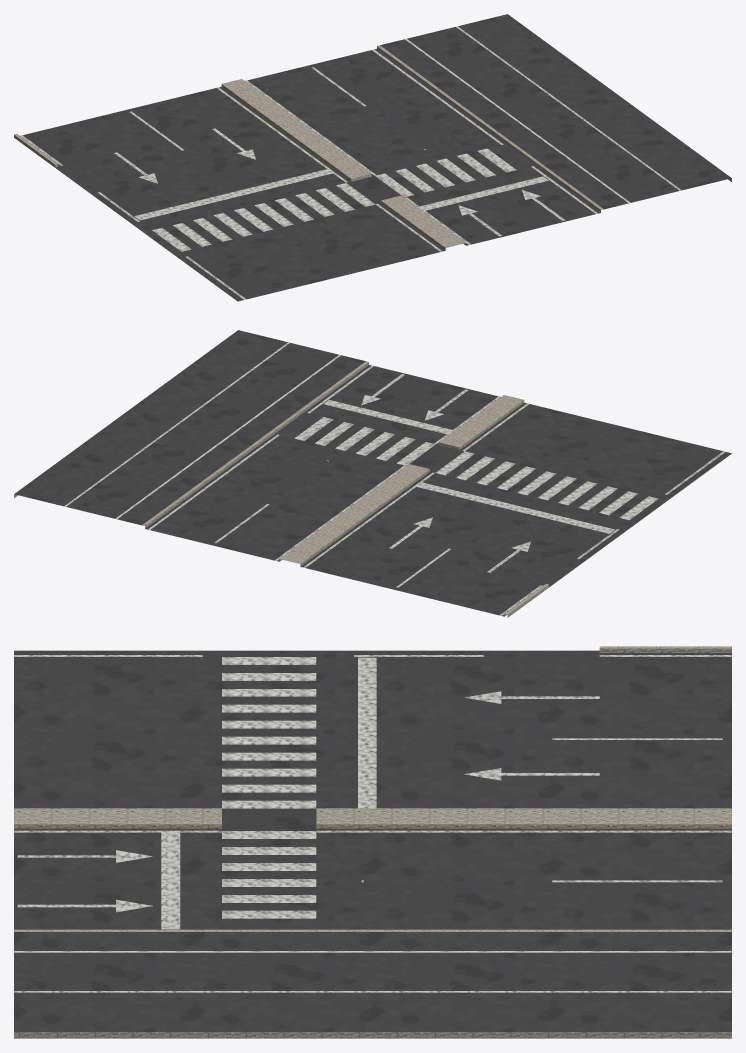
Rendered from SM_Viale_Italia_Incrocio_v3_LOD1.fbx.
3 views of the same model, one above another, from view 1: azimuth 30°, elevation 25°; view 2: azimuth 150°, elevation 25°; view 3: azimuth 270°, elevation 25° (orthographic). The views are drawn at different scales.
Visible parts, largest first — view 1: SM_Viale_Italia_Incrocio_v3_LOD1; view 2: SM_Viale_Italia_Incrocio_v3_LOD1; view 3: SM_Viale_Italia_Incrocio_v3_LOD1.
Boxes of the visible parts, x1=… form: SM_Viale_Italia_Incrocio_v3_LOD1: x1=14, y1=14, x2=731, y2=301; SM_Viale_Italia_Incrocio_v3_LOD1: x1=14, y1=330, x2=731, y2=617; SM_Viale_Italia_Incrocio_v3_LOD1: x1=14, y1=646, x2=731, y2=1038.
Size of the model in its own units: 2415 by 1900 by 20.5.
3 materials, 3 textured.
